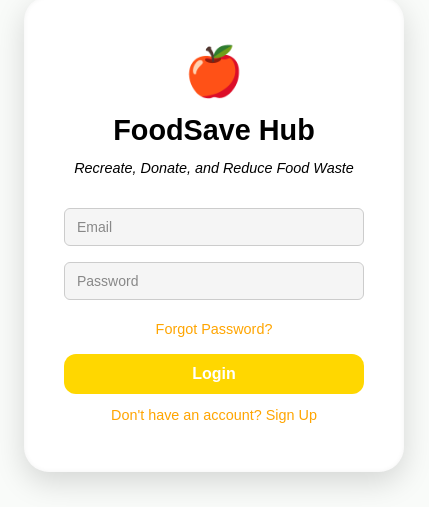
Test case: LoginForm › forgot password navigates to otp-email step
The width and height of the screenshot is (429, 507).
Click the button "Forgot Password?" at (214, 329), box [156,321,272,337]
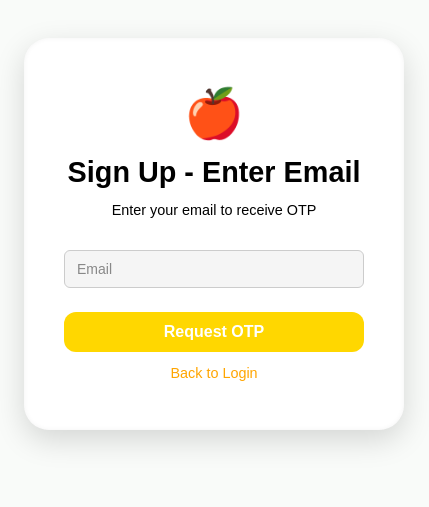
Check: the heading "Sign Up - Enter Email" is shown, box [64,156,364,189]
